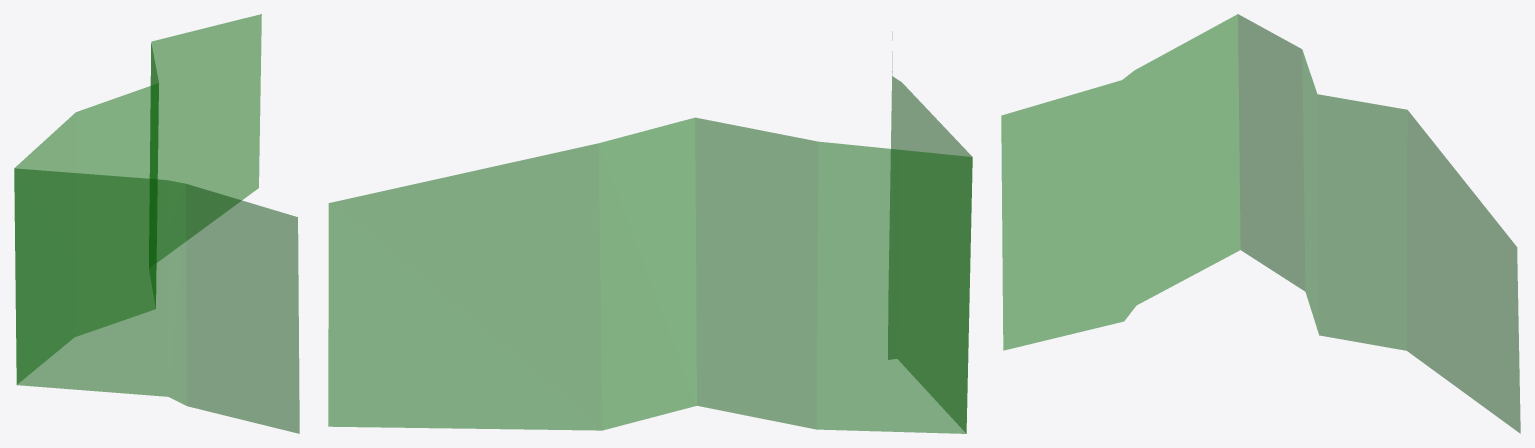
Rendered from D02_wall.obj.
The picture shows the model from 3 angles, left to right: view 1: azimuth 30°, elevation 25°; view 2: azimuth 150°, elevation 25°; view 3: azimuth 270°, elevation 25°; orthographic projection. The views are drawn at different scales.
Bounding box in the file's own units: 89.13 × 55.1 × 99.03.
